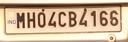0: (37, 12, 47, 29)
4: (79, 9, 90, 28), (48, 12, 58, 29), (91, 10, 98, 27)
6: (110, 10, 120, 28), (100, 10, 109, 26)
B: (69, 11, 78, 28)
C: (59, 11, 67, 28)
H: (27, 11, 36, 29)
M: (15, 11, 27, 30)
